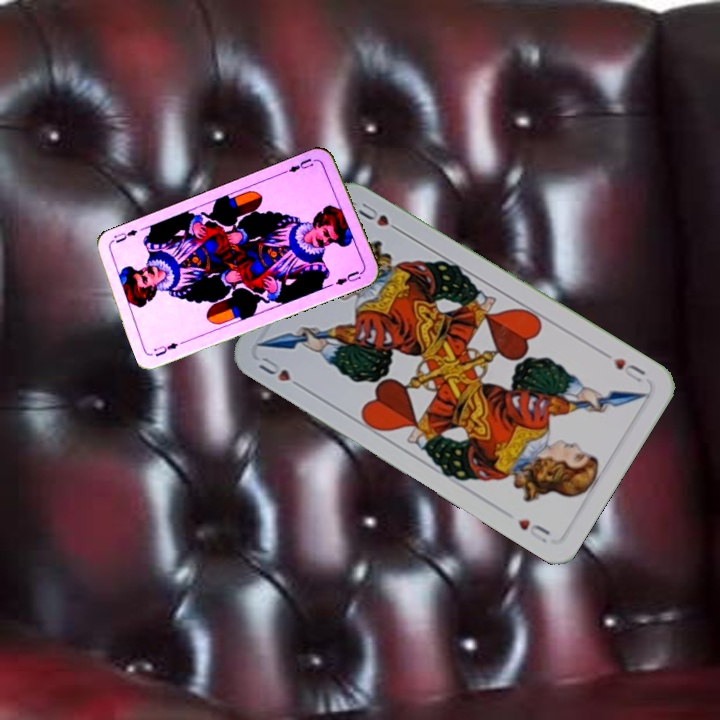EU: (280, 154, 316, 176), (149, 338, 181, 359)
HU: (254, 351, 307, 392), (609, 354, 648, 386)
